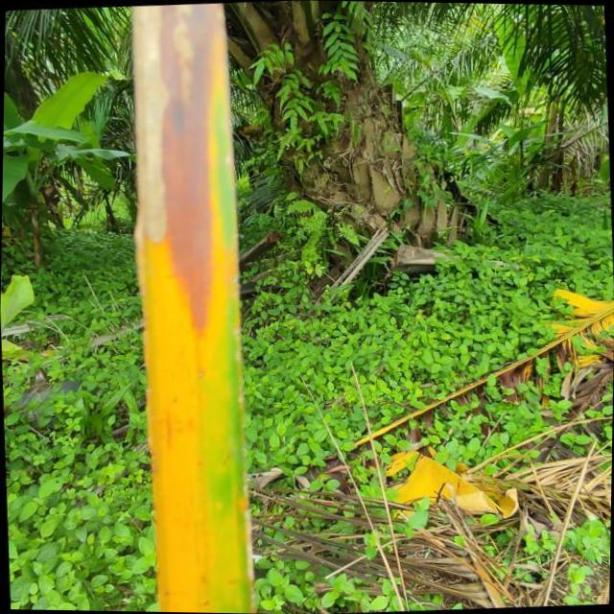Megnesium: (130, 5, 251, 614)
